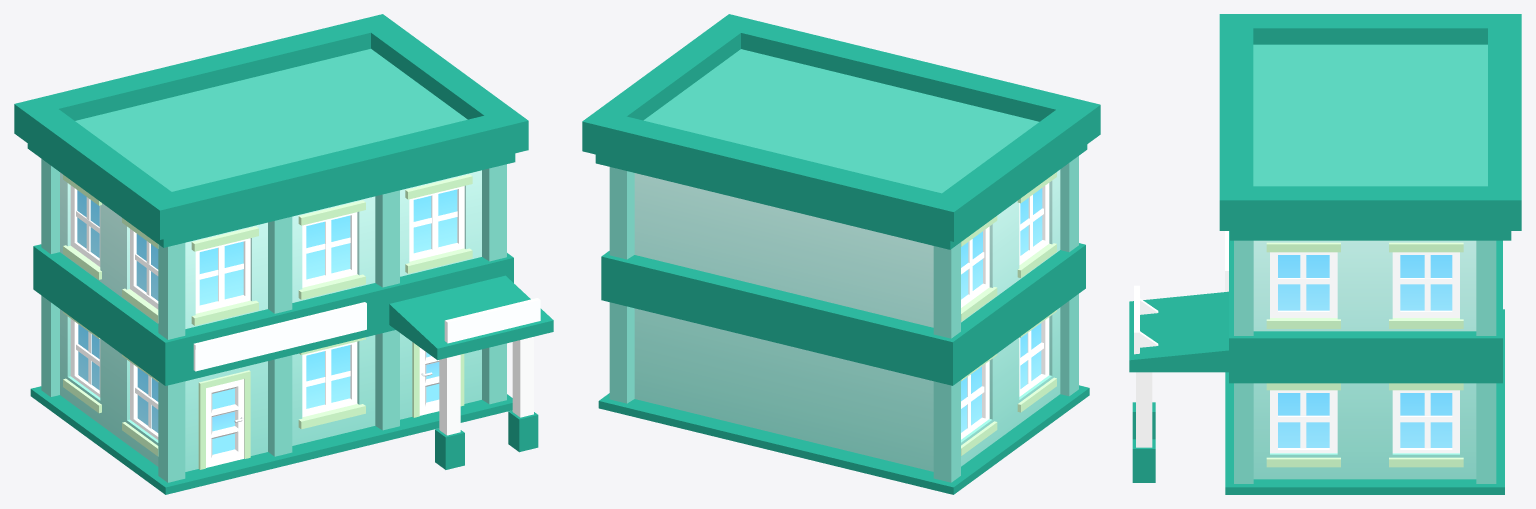
File: Building_Living_34.glb
3 renders of one model, left to right at view 1: azimuth 30°, elevation 25°; view 2: azimuth 150°, elevation 25°; view 3: azimuth 270°, elevation 25°, orthographic. The views are drawn at different scales.
Parts seen in each view (by area): view 1: Building_Living_34; view 2: Building_Living_34; view 3: Building_Living_34.
Boxes of the visible parts, box(x1,y1,x2,y2) form: Building_Living_34: box(14, 14, 553, 494); Building_Living_34: box(582, 14, 1100, 494); Building_Living_34: box(1129, 14, 1521, 494).
Size of the model in its own units: 10.33 by 7.72 by 9.19.
1 material, 1 textured.
